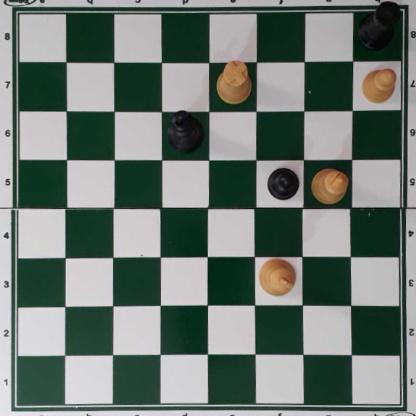black-king: (166, 110, 206, 153)
black-pawn: (266, 166, 299, 200)
black-rook: (356, 1, 401, 49)
white-bishop: (311, 167, 348, 204)
white-king: (256, 256, 297, 297)
white-pawn: (361, 66, 397, 103)
white-rook: (214, 61, 251, 102)
